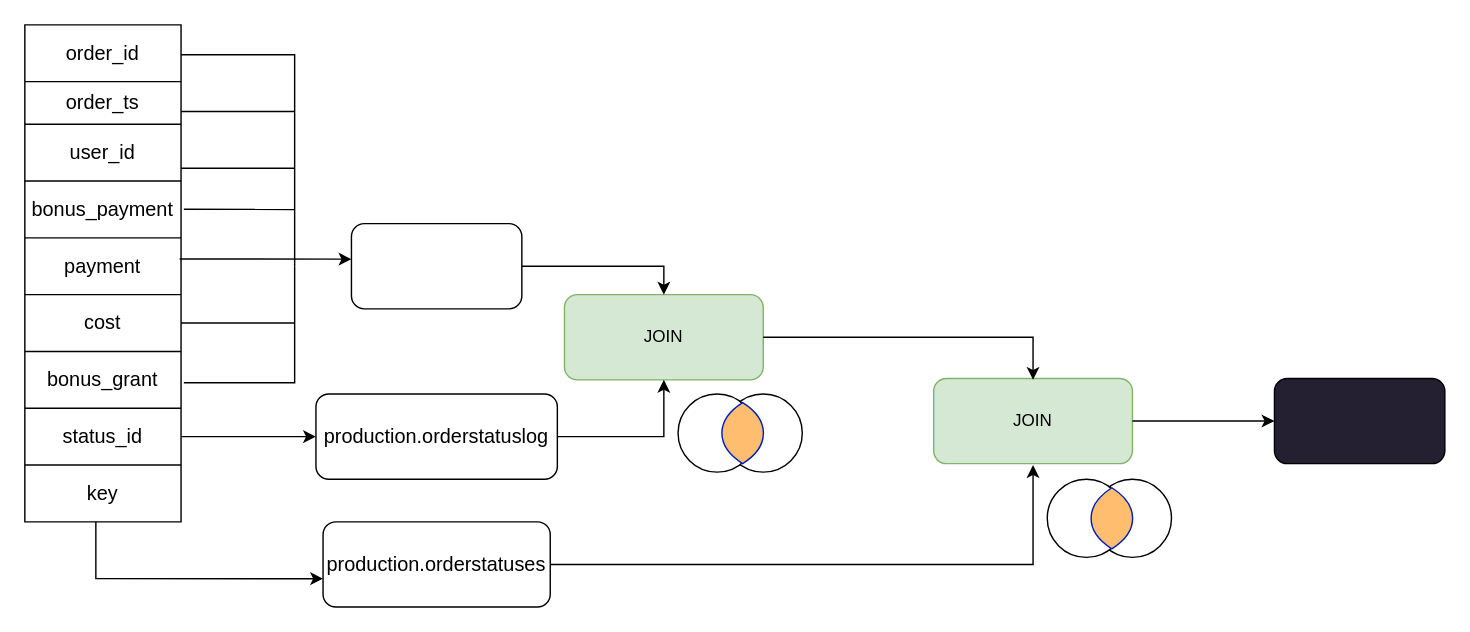
Some shapes in this 1470 by 632 pixel diagram are drawn without their labels. The centre of each missing label's shape, as x and y in pixels:
"OUT" belongs at point (1359, 420).
"production.orders" belongs at point (436, 265).
